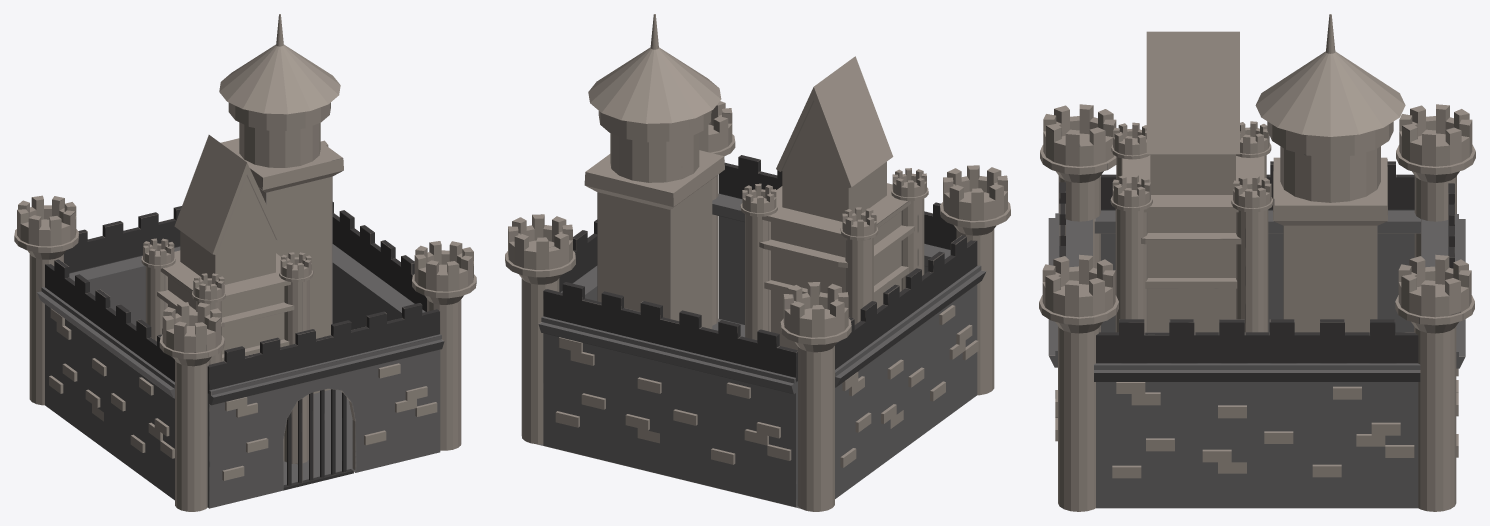
Rendered from Castle 1.fbx.
3 renders of one model, left to right at view 1: azimuth 30°, elevation 25°; view 2: azimuth 150°, elevation 25°; view 3: azimuth 270°, elevation 25°, orthographic. The views are drawn at different scales.
Parts seen in each view (by area): view 1: Cube.010; view 2: Cube.010; view 3: Cube.010.
Boxes of the visible parts, <box> form: Cube.010: <box>14,14,476,511</box>; Cube.010: <box>505,14,1010,511</box>; Cube.010: <box>1039,14,1475,511</box>.
Size of the model in its own units: 15575 by 17804 by 15601.
